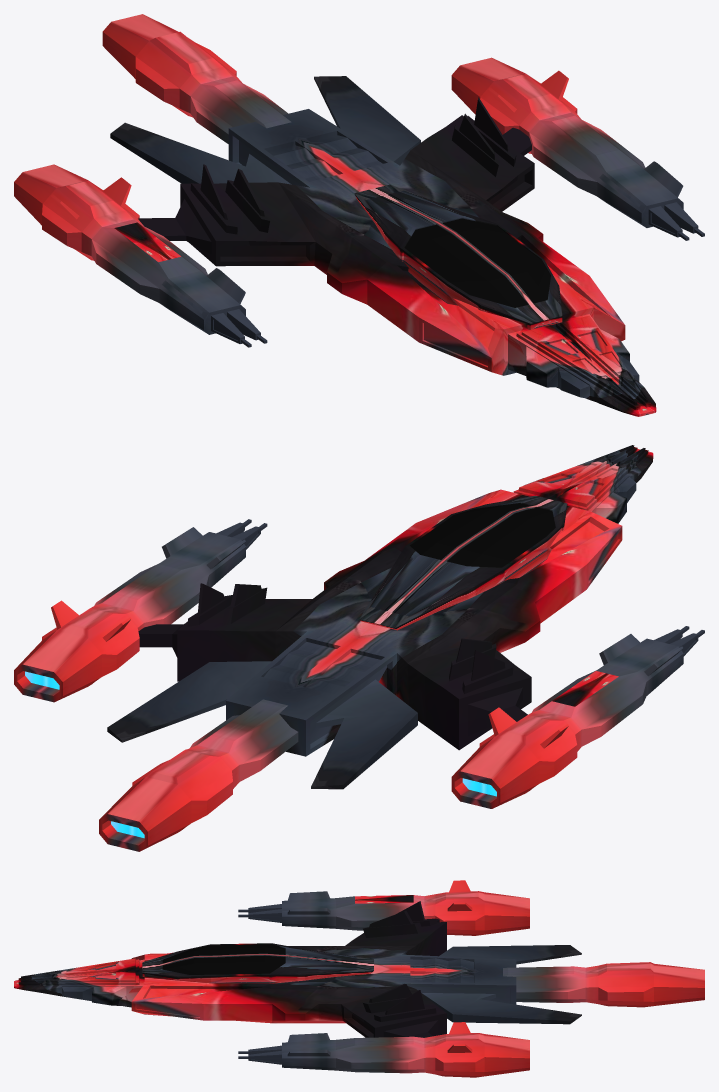
File: radical_spaceship.glb
3 views of the same model, one above another, from view 1: azimuth 30°, elevation 25°; view 2: azimuth 150°, elevation 25°; view 3: azimuth 270°, elevation 25° (orthographic). The views are drawn at different scales.
Parts seen in each view (by area): view 1: bodyBottom, engine_right, engine_left, engine_back, cabine, windows; view 2: bodyBottom, engine_right, engine_left, engine_back, cabine, windows; view 3: bodyBottom, engine_left, engine_right, engine_back, cabine, windows.
Boxes of the visible parts, box(x1,y1,x2,y2) form: bodyBottom: box(110, 76, 656, 416); engine_right: box(14, 164, 267, 347); engine_left: box(451, 57, 704, 240); engine_back: box(102, 14, 291, 143); cabine: box(354, 184, 562, 329); windows: box(405, 218, 550, 307); bodyBottom: box(107, 445, 653, 789); engine_right: box(451, 626, 704, 808); engine_left: box(14, 519, 267, 702); engine_back: box(99, 699, 298, 851); cabine: box(359, 495, 567, 630); windows: box(410, 503, 555, 567); bodyBottom: box(14, 901, 581, 1037); engine_left: box(238, 1022, 529, 1077); engine_right: box(238, 880, 529, 935); engine_back: box(503, 962, 704, 1007); cabine: box(142, 943, 373, 983); windows: box(162, 944, 285, 974).
Bounding box in the file's own units: 11.31 × 1.84 × 19.9.
Materials: 3 (2 with a texture image).
